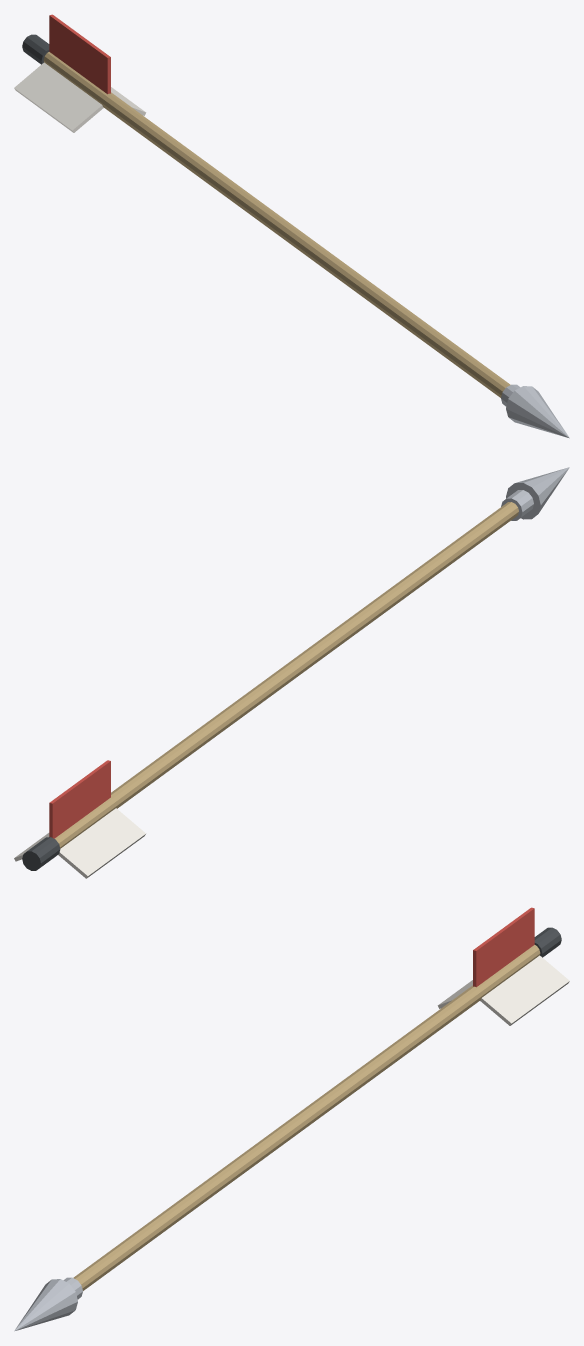
The model's file is arrow.glb.
The picture shows the model from 3 angles, top to bottom: view 1: azimuth 30°, elevation 25°; view 2: azimuth 150°, elevation 25°; view 3: azimuth 330°, elevation 25°; orthographic projection.
Parts seen in each view (by area): view 1: Arrow_Shaft, Fletch_2, Fletch_0, Arrow_Head, Arrow_Nock; view 2: Arrow_Shaft, Fletch_2, Fletch_0, Arrow_Head, Arrow_Nock; view 3: Arrow_Shaft, Fletch_1, Fletch_0, Arrow_Head, Arrow_Nock.
Part boxes in pixels (x1,y1,x2,y2): Arrow_Shaft: (43, 52, 510, 397); Fletch_2: (14, 62, 103, 132); Fletch_0: (49, 14, 110, 94); Arrow_Head: (506, 386, 569, 438); Arrow_Nock: (22, 34, 49, 64); Arrow_Shaft: (54, 502, 518, 848); Fletch_2: (58, 808, 145, 878); Fletch_0: (49, 760, 110, 838); Arrow_Head: (506, 467, 569, 519); Arrow_Nock: (22, 837, 60, 870); Arrow_Shaft: (73, 945, 540, 1290); Fletch_1: (480, 955, 569, 1025); Fletch_0: (473, 907, 534, 987); Arrow_Head: (14, 1279, 77, 1331); Arrow_Nock: (534, 927, 561, 957).
Size of the model in its own units: 0.0549 by 0.0476 by 0.6925.
